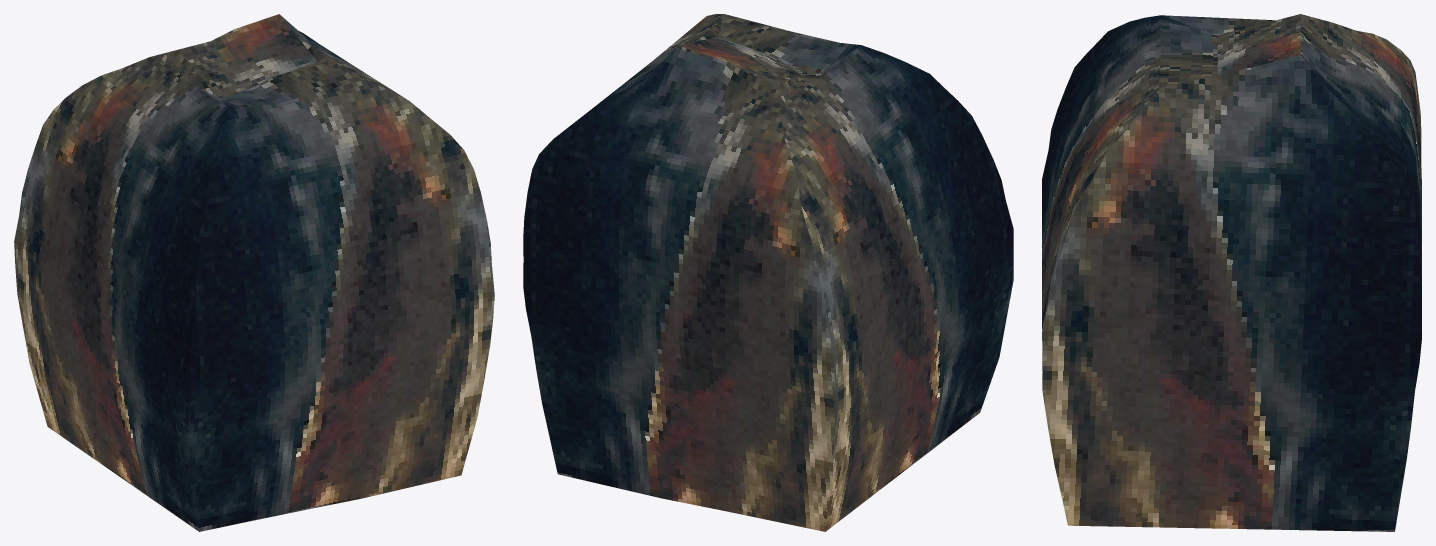
The picture shows the model from 3 angles, left to right: view 1: azimuth 30°, elevation 25°; view 2: azimuth 150°, elevation 25°; view 3: azimuth 270°, elevation 25°; orthographic projection. The views are drawn at different scales.
Parts seen in each view (by area): view 1: Splice_2; view 2: Splice_2; view 3: Splice_2.
Boxes of the visible parts, <box> form: Splice_2: <box>14,14,494,531</box>; Splice_2: <box>523,14,1013,531</box>; Splice_2: <box>1042,14,1421,531</box>.
Size of the model in its own units: 1.08 by 1.37 by 1.08.
Materials: 1 (1 with a texture image).
